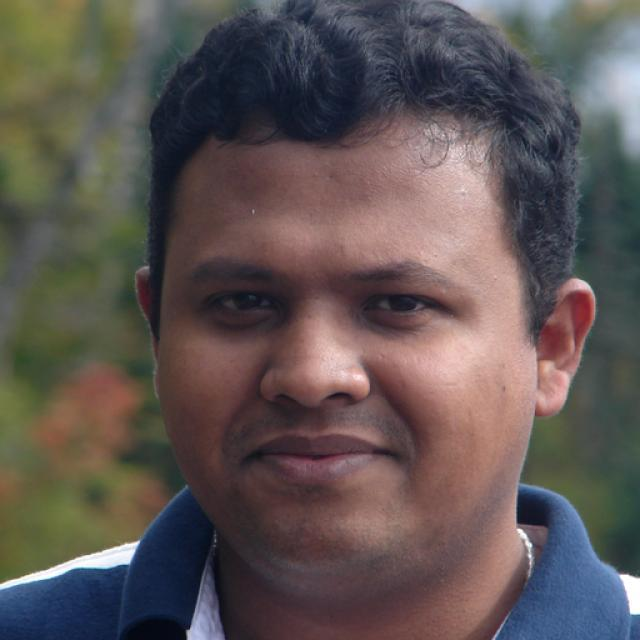content: (154, 124, 536, 582)
